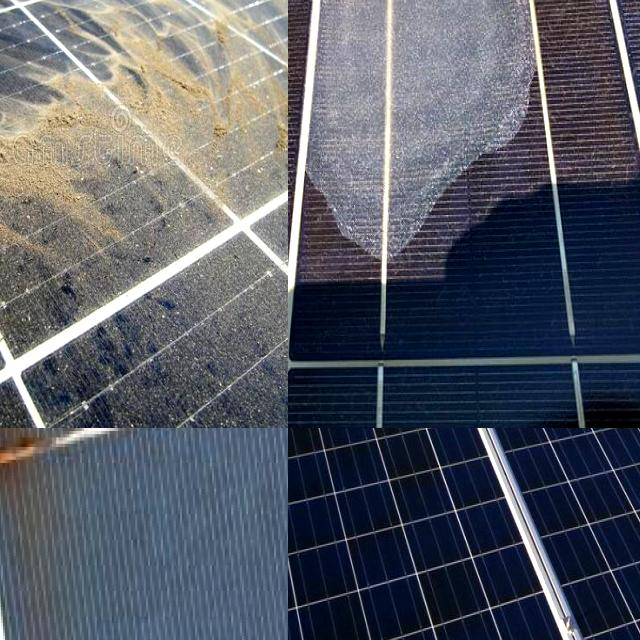crack: (288, 428, 596, 640), (429, 428, 640, 640), (307, 428, 547, 506), (465, 428, 640, 508), (288, 428, 369, 505)
dust: (0, 90, 78, 425), (0, 268, 136, 428), (0, 79, 114, 254), (146, 276, 272, 428), (24, 0, 259, 79), (128, 7, 250, 129), (0, 0, 117, 89)
shadow: (305, 0, 537, 257), (0, 428, 202, 508)
